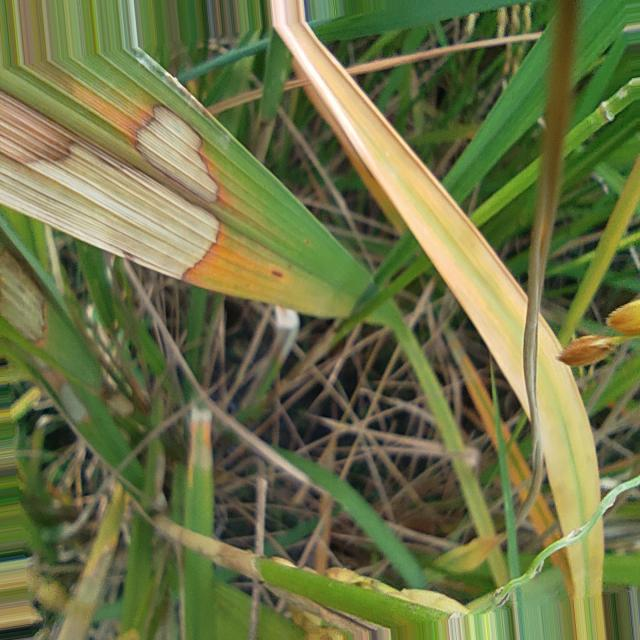Leaf_Blast: (280, 23, 529, 410), (538, 318, 600, 533), (569, 523, 604, 597)
Rice False Smut: (0, 137, 219, 278), (136, 105, 218, 202)
